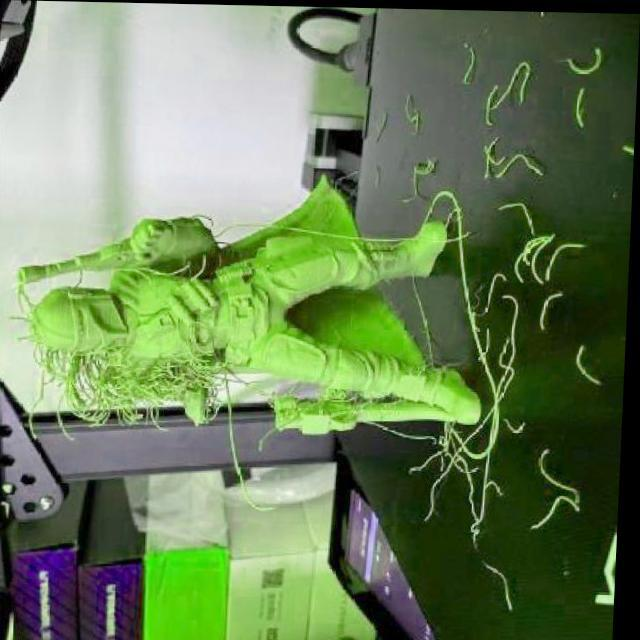spaghetti: (2, 257, 244, 446), (266, 366, 412, 431)
